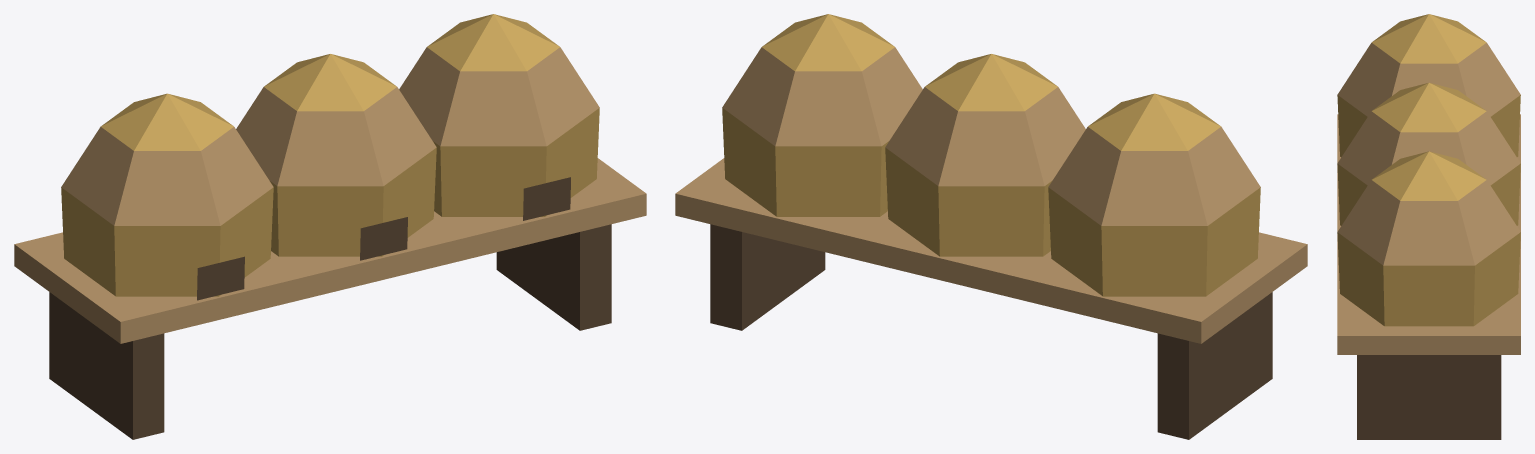
Rendered from prop-beehives.glb.
3 views of the same model, side by side, from view 1: azimuth 30°, elevation 25°; view 2: azimuth 150°, elevation 25°; view 3: azimuth 270°, elevation 25° (orthographic). The views are drawn at different scales.
Parts seen in each view (by area): view 1: prop-beehives; view 2: prop-beehives; view 3: prop-beehives.
Part boxes in pixels (x1,y1,x2,y2): prop-beehives: (14,14,646,439); prop-beehives: (675,14,1307,439); prop-beehives: (1337,14,1520,439).
Bounding box in the file's own units: 2 × 1.08 × 0.705.
Materials: 1 (1 with a texture image).
